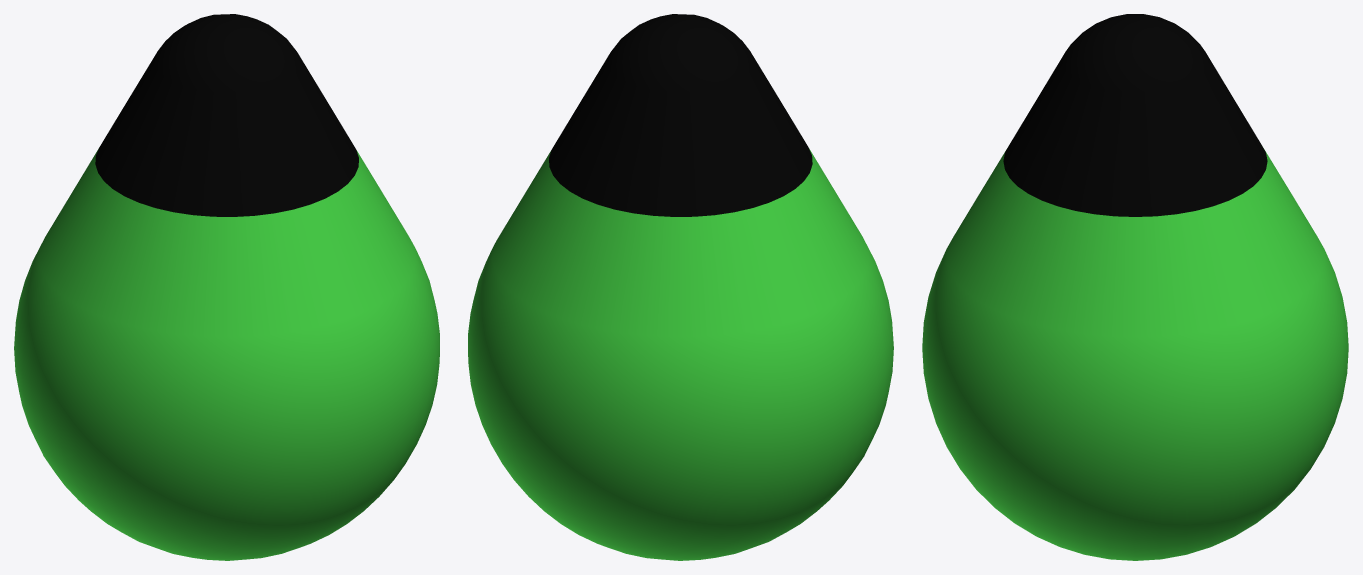
The model's file is A-2-Green.dae.
3 views of the same model, side by side, from view 1: azimuth 30°, elevation 25°; view 2: azimuth 150°, elevation 25°; view 3: azimuth 270°, elevation 25° (orthographic).
Parts seen in each view (by area): view 1: A-2-Green; view 2: A-2-Green; view 3: A-2-Green.
Boxes of the visible parts, <box> form: A-2-Green: <box>14,14,439,560</box>; A-2-Green: <box>468,14,893,560</box>; A-2-Green: <box>922,14,1348,560</box>.
Size of the model in its own units: 14.49 by 14.5 by 19.47.
